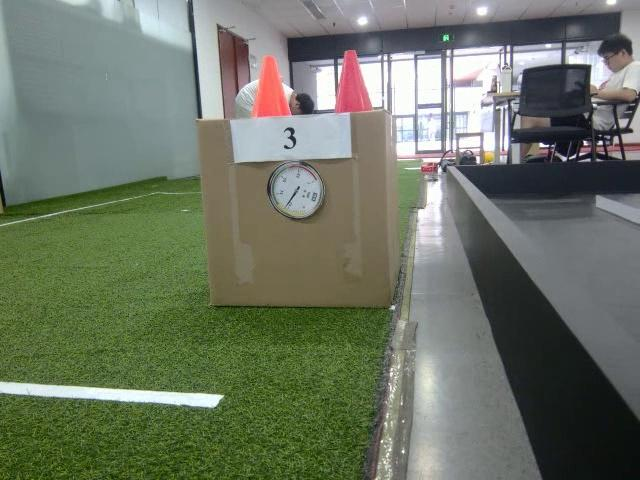3: (282, 125, 298, 152)
Dashboard: (265, 161, 323, 221)
orange_barrel: (251, 55, 294, 119)
red_barrel: (333, 49, 377, 111)
ssi: (311, 191, 317, 203)
